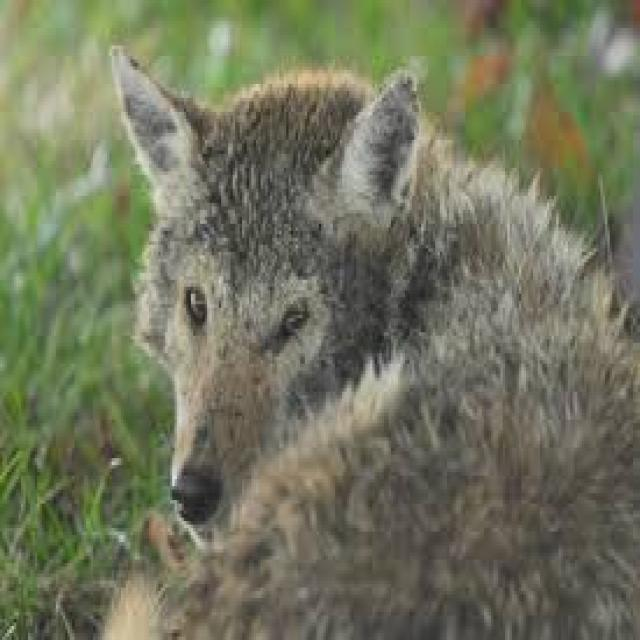Coyote: (104, 34, 638, 563)
